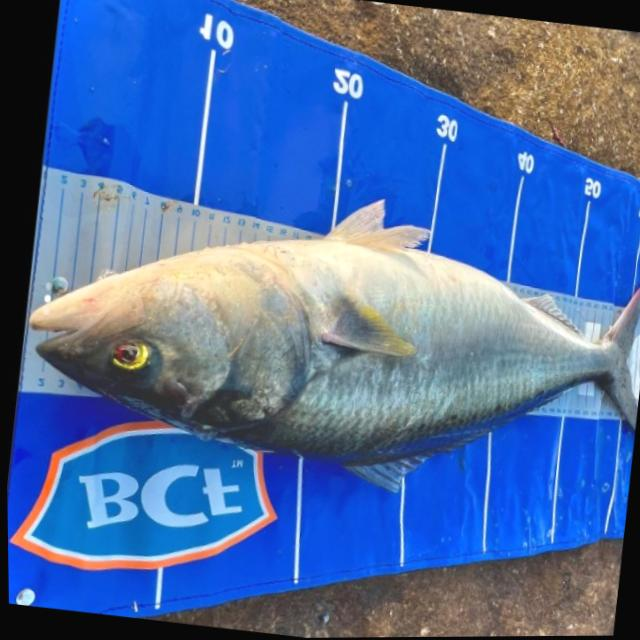Australian Salmon: (2, 140, 640, 566)
